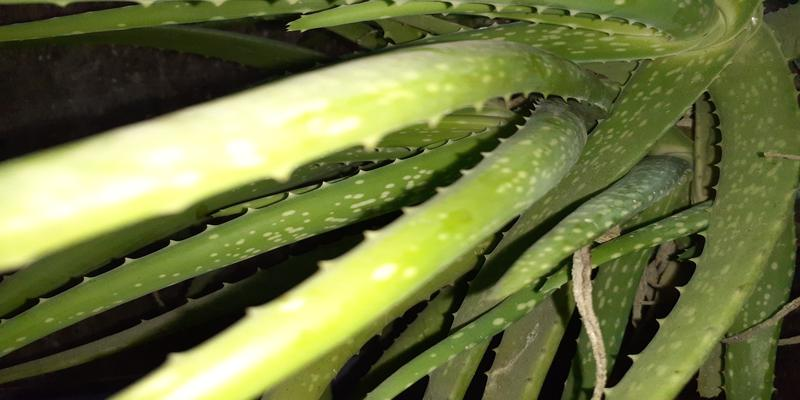Aloevera: (268, 13, 791, 375)
